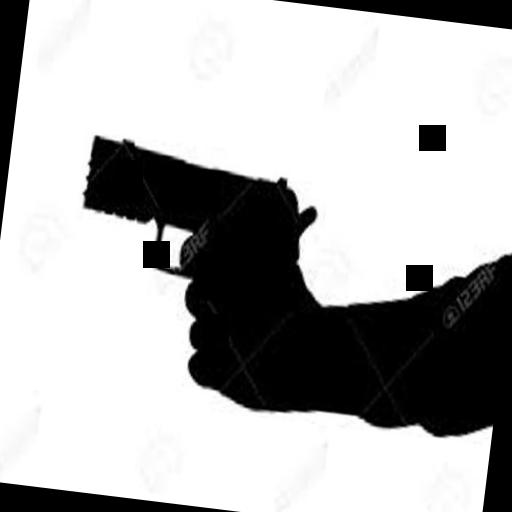Handgun: (58, 128, 326, 402)
